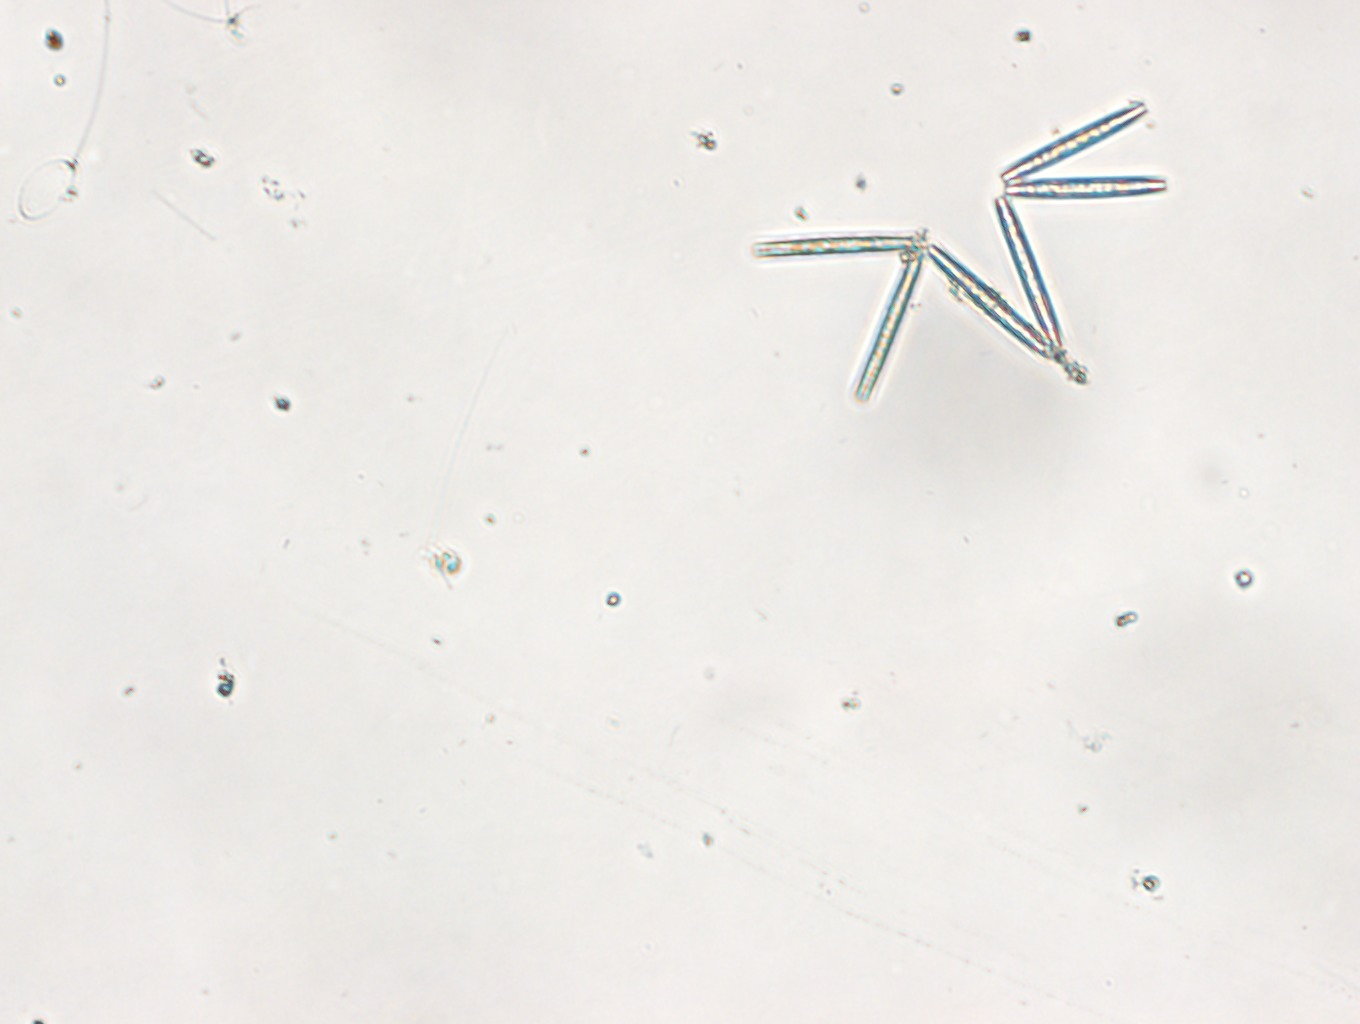thalassionema nitzschioides: (751, 103, 1166, 403)
